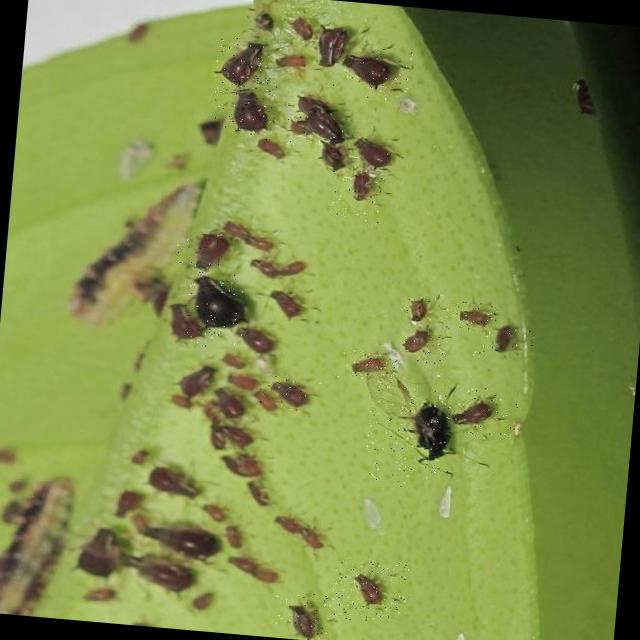aphid: (362, 384, 453, 491), (77, 522, 205, 597), (328, 556, 408, 624), (180, 269, 246, 349), (331, 44, 412, 104), (208, 79, 276, 142), (448, 384, 518, 440), (210, 30, 270, 87), (282, 101, 351, 150), (138, 522, 219, 562), (262, 501, 329, 548), (328, 166, 382, 223), (257, 372, 328, 414), (272, 589, 330, 640), (75, 523, 124, 579), (336, 346, 400, 385), (170, 228, 220, 275), (337, 137, 401, 172), (443, 299, 502, 334), (478, 320, 532, 357), (392, 328, 446, 363), (147, 464, 200, 498), (166, 302, 205, 342), (315, 24, 349, 69), (177, 362, 216, 401), (250, 256, 306, 282), (394, 294, 439, 324), (219, 450, 264, 480), (211, 422, 255, 452), (266, 288, 306, 320), (212, 387, 248, 420), (318, 142, 348, 174), (289, 16, 314, 41)
